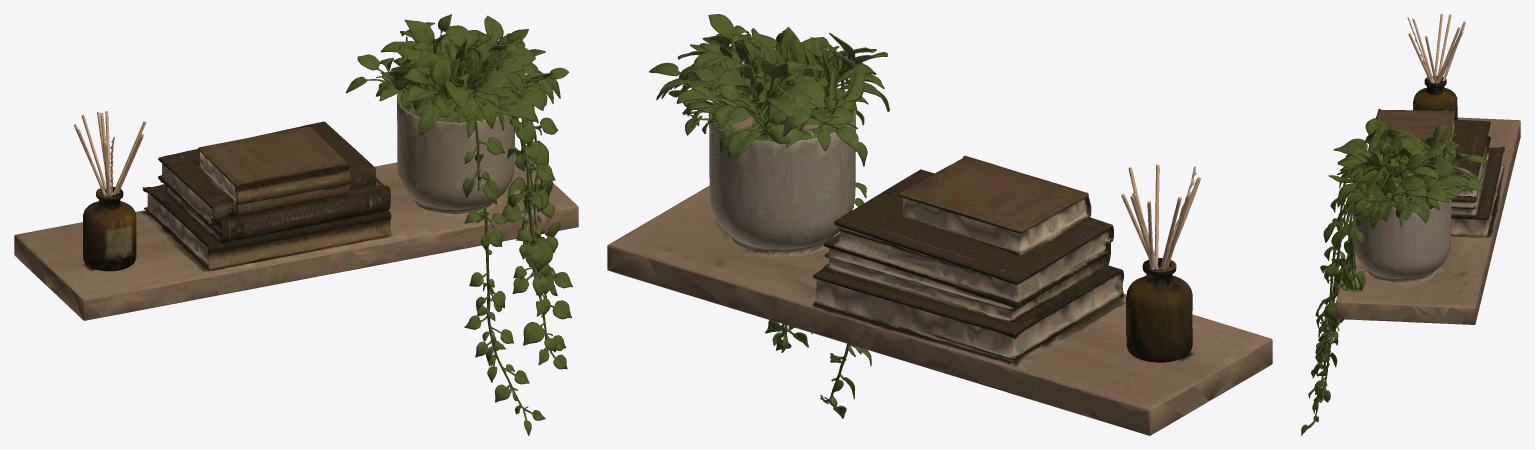
The model's file is room_wall_shelf_books.glb.
3 views of the same model, side by side, from view 1: azimuth 30°, elevation 25°; view 2: azimuth 150°, elevation 25°; view 3: azimuth 270°, elevation 25° (orthographic). The views are drawn at different scales.
Visible parts, largest first — view 1: mesh_node.011; view 2: mesh_node.011; view 3: mesh_node.011.
Boxes of the visible parts, x1=… form: mesh_node.011: x1=14, y1=14, x2=578, y2=435; mesh_node.011: x1=607, y1=14, x2=1272, y2=435; mesh_node.011: x1=1301, y1=14, x2=1520, y2=435.
Bounding box in the file's own units: 0.6781 × 0.4876 × 0.3235.
1 material, 1 textured.
